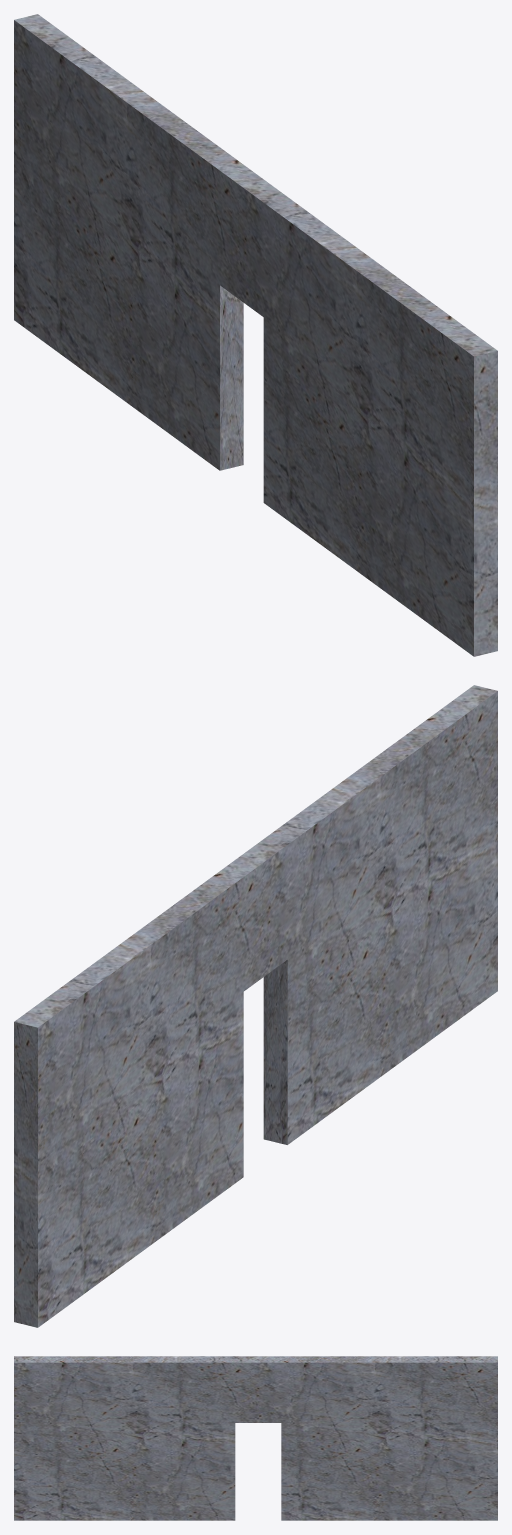
Rendered from WallDoor02.gltf.
3 renders of one model, top to bottom at view 1: azimuth 30°, elevation 25°; view 2: azimuth 150°, elevation 25°; view 3: azimuth 270°, elevation 25°, orthographic. The views are drawn at different scales.
Visible parts, largest first — view 1: Cube; view 2: Cube; view 3: Cube.
Part boxes in pixels (x1,y1,x2,y2): Cube: [14, 14, 497, 656]; Cube: [14, 685, 497, 1327]; Cube: [14, 1356, 497, 1520].
Bounding box in the file's own units: 0.6 × 7.2 × 20.
1 material, 1 textured.
